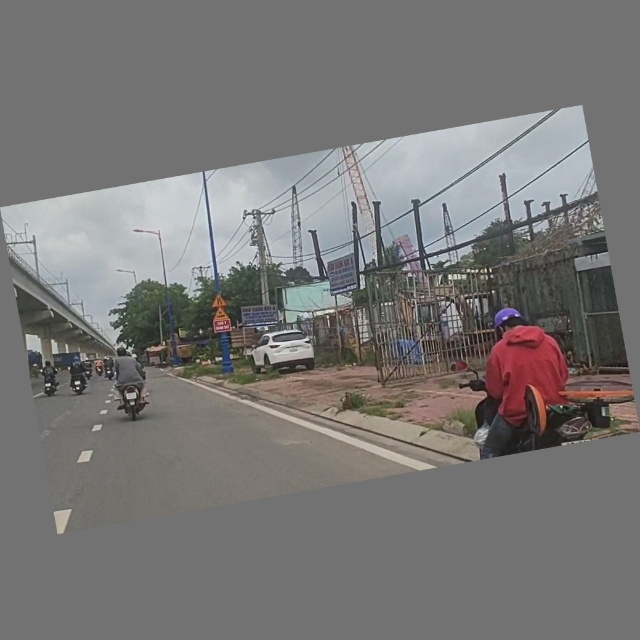W.203c: (210, 292, 228, 309)
W.245a: (211, 307, 233, 322)
